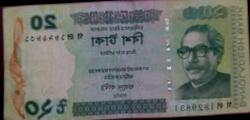20 taka: (3, 7, 248, 117)
